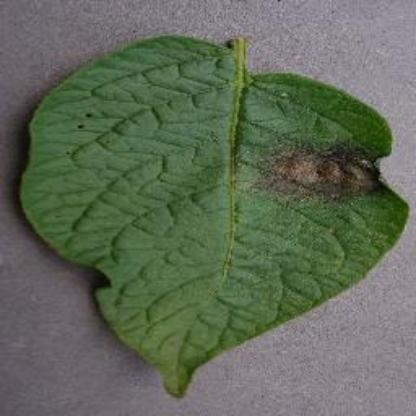Late-Blight: (19, 17, 414, 397)
